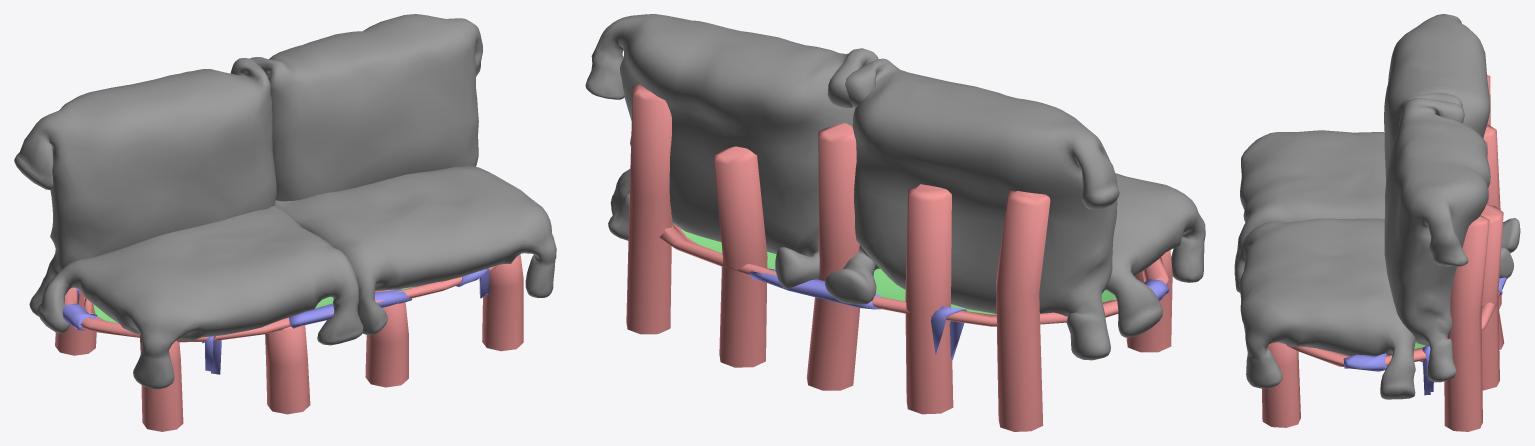
File: SM_couch.gltf
The picture shows the model from 3 angles, left to right: view 1: azimuth 30°, elevation 25°; view 2: azimuth 150°, elevation 25°; view 3: azimuth 270°, elevation 25°; orthographic projection. The views are drawn at different scales.
Parts seen in each view (by area): view 1: SM_couch; view 2: SM_couch; view 3: SM_couch.
Boxes of the visible parts, x1,y1,x2,y2 form: SM_couch: (14, 14, 556, 431); SM_couch: (585, 14, 1205, 431); SM_couch: (1234, 14, 1520, 431).
Bounding box in the file's own units: 1.84 × 0.9723 × 1.
